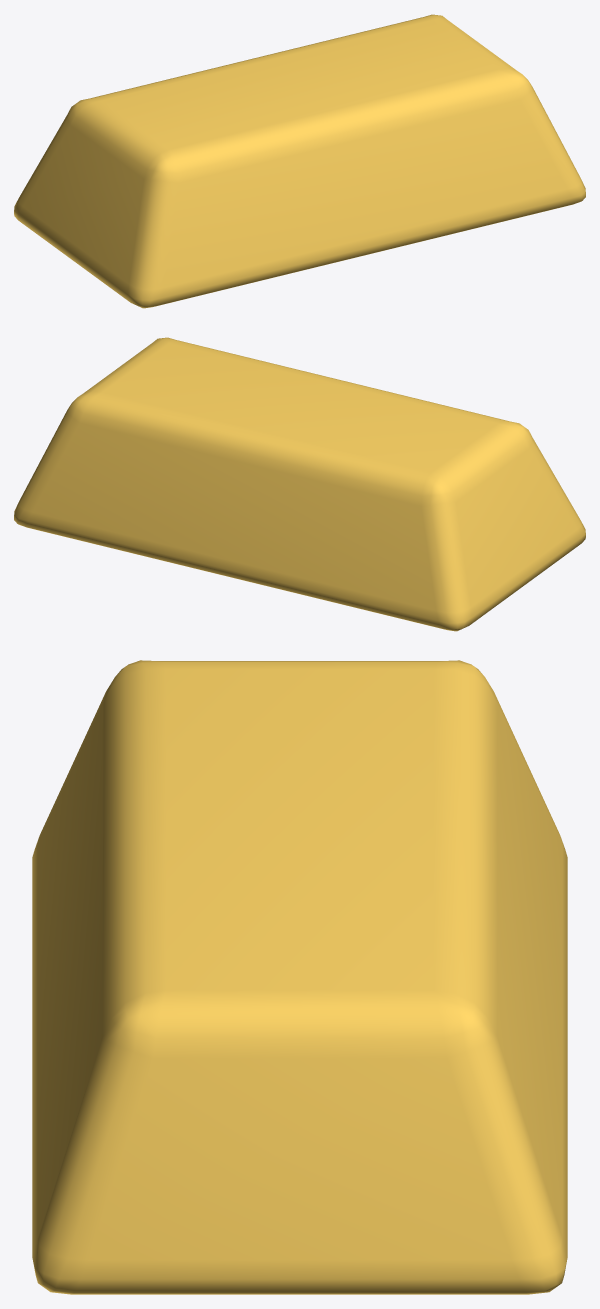
Rendered from ingot.glb.
The picture shows the model from 3 angles, top to bottom: view 1: azimuth 30°, elevation 25°; view 2: azimuth 150°, elevation 25°; view 3: azimuth 270°, elevation 25°; orthographic projection. The views are drawn at different scales.
Visible parts, largest first — view 1: Ingot; view 2: Ingot; view 3: Ingot.
Boxes of the visible parts, bbox=[...] form: Ingot: bbox=[14, 14, 585, 308]; Ingot: bbox=[14, 337, 585, 631]; Ingot: bbox=[32, 660, 567, 1294].
Size of the model in its own units: 0.3133 by 0.0832 by 0.1601.
